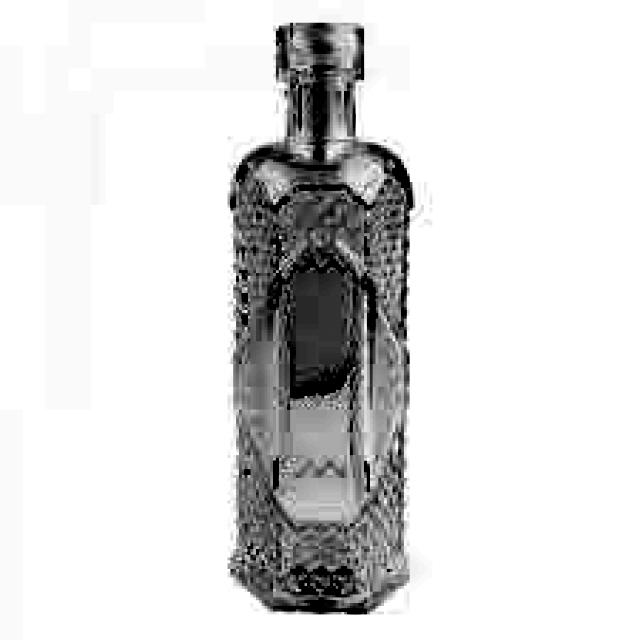Glass: (222, 21, 415, 616)
